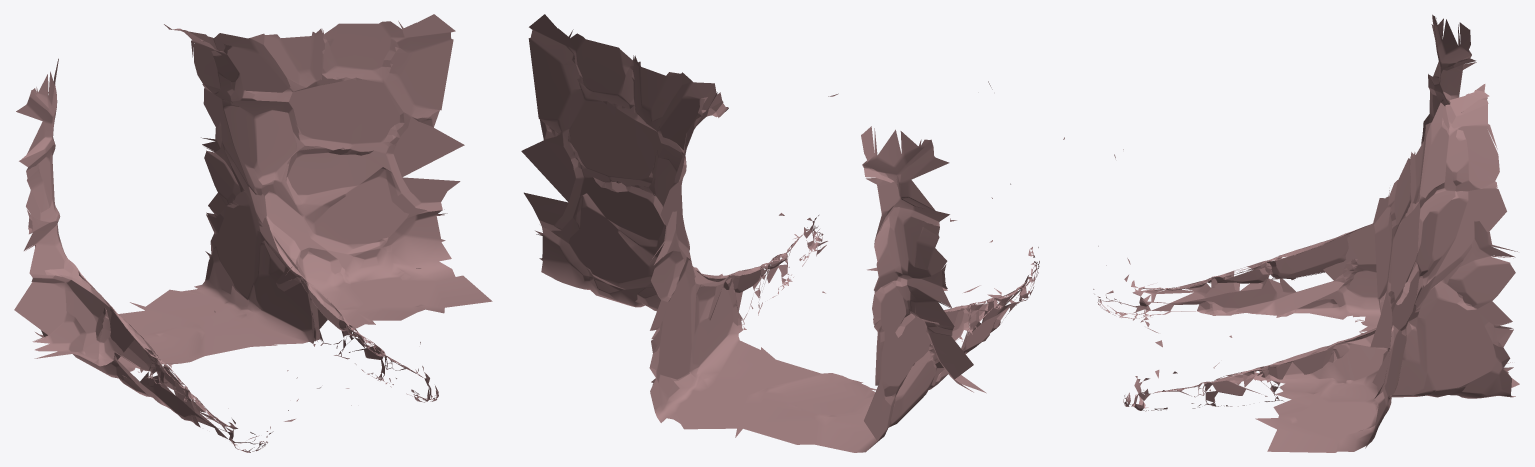
The model's file is canyon.fbx_PolyShape__3__009LODs.fbx.
3 views of the same model, side by side, from view 1: azimuth 30°, elevation 25°; view 2: azimuth 150°, elevation 25°; view 3: azimuth 270°, elevation 25° (orthographic). The views are drawn at different scales.
Parts seen in each view (by area): view 1: PolyShape (3).009_LOD0; view 2: PolyShape (3).009_LOD0; view 3: PolyShape (3).009_LOD0.
Boxes of the visible parts, x1,y1,x2,y2 form: PolyShape (3).009_LOD0: [14, 14, 492, 452]; PolyShape (3).009_LOD0: [521, 14, 1064, 452]; PolyShape (3).009_LOD0: [1093, 14, 1519, 452].
Size of what is drawn, in the model's own units: 6099 by 3908 by 5158.
